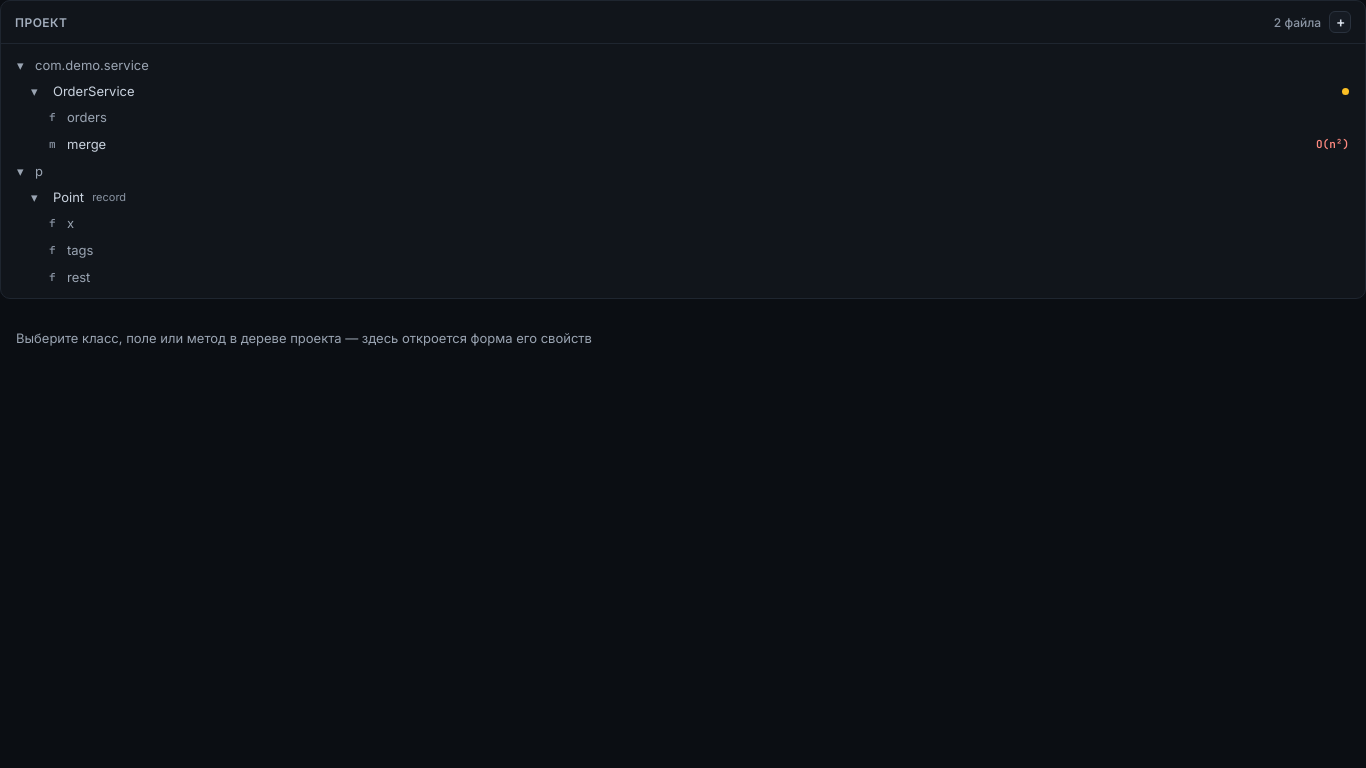
Test: record: компоненты в форме класса (FE-44) › повторяющееся имя компонента блокирует сохранение
Expected: the list with test id "project-tree" is shown, [7,52,1359,290]
Click the button "f x" at (52, 223), box [7,210,1359,236]
(page scrolled)
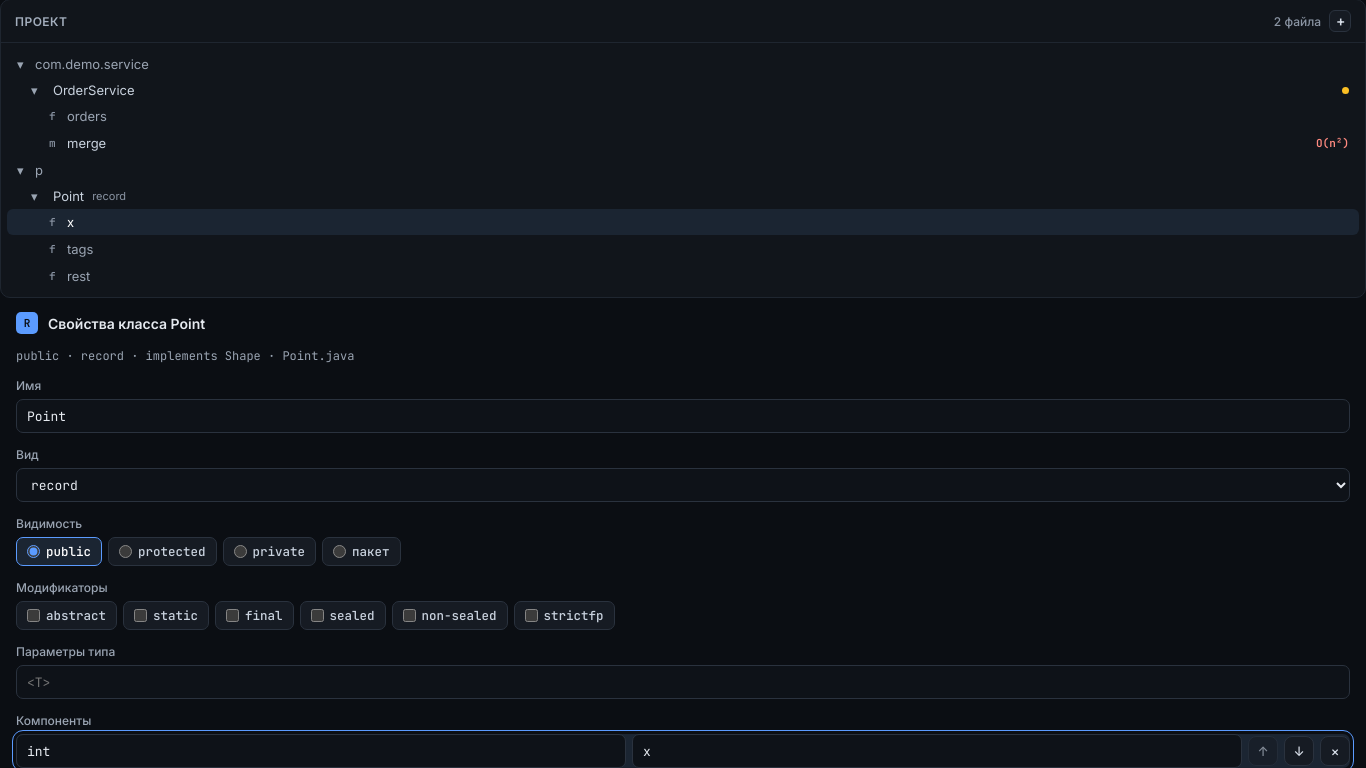
Replace the text in the field named "Имя компонента 1" with "tags" at (937, 751), box [632,734,1242,767]
(page scrolled)
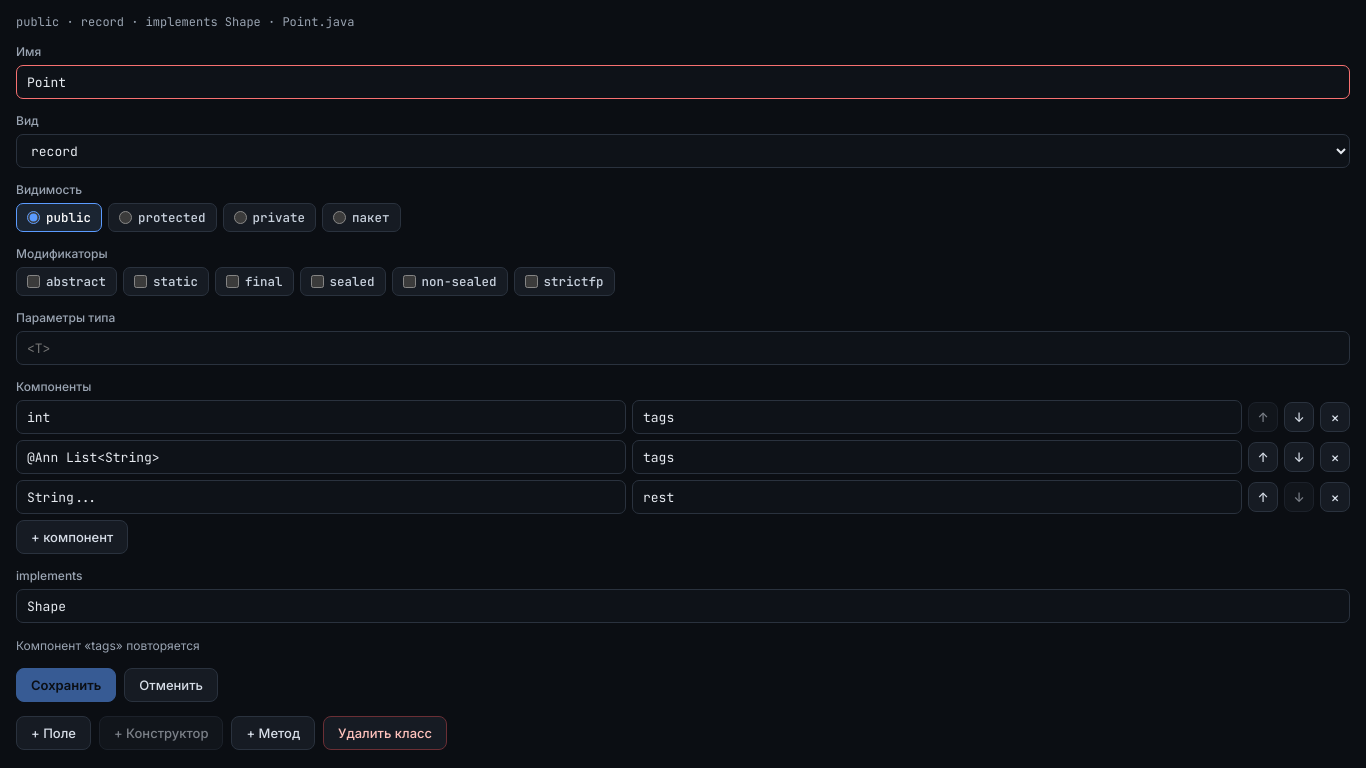
Expected: the button "Сохранить" is disabled, [16,668,116,702]
Expected: the text "Компонент «tags» повторяется" is shown, [16,638,200,653]
